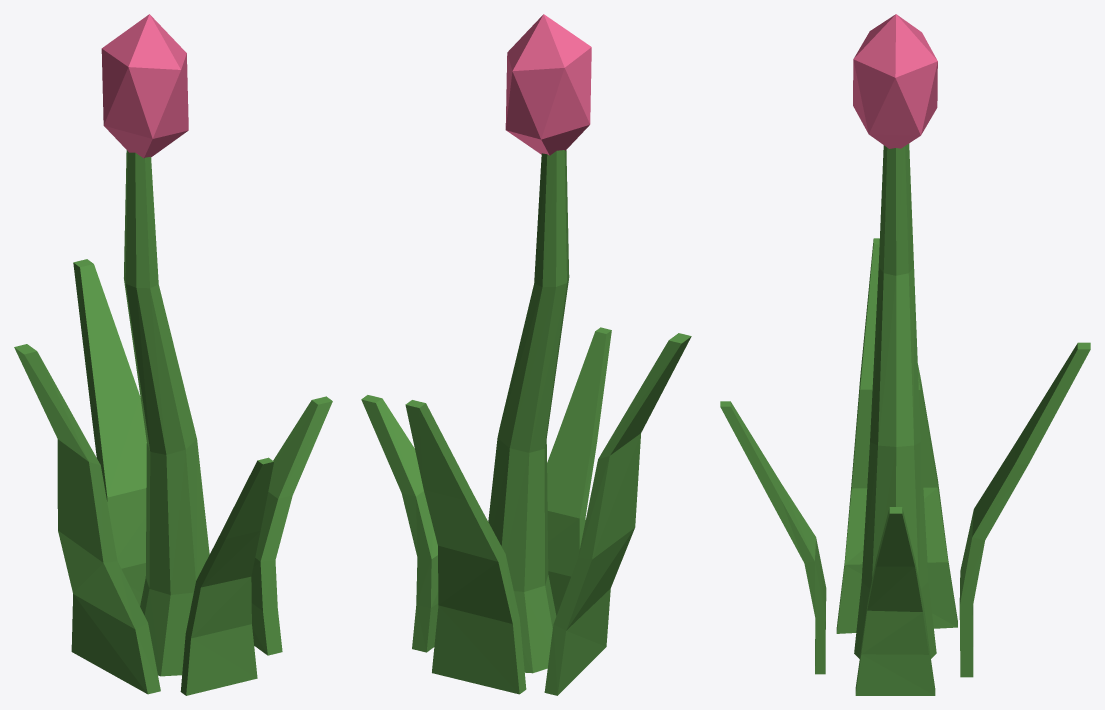
Rendered from flower_01.glb.
3 renders of one model, left to right at view 1: azimuth 30°, elevation 25°; view 2: azimuth 150°, elevation 25°; view 3: azimuth 270°, elevation 25°, orthographic. The views are drawn at different scales.
Parts seen in each view (by area): view 1: Object_96, Object_97; view 2: Object_96, Object_97; view 3: Object_96, Object_97.
Boxes of the visible parts, <box> form: Object_96: <box>14,150,332,695</box>; Object_97: <box>101,14,188,158</box>; Object_96: <box>361,150,691,695</box>; Object_97: <box>505,14,591,155</box>; Object_96: <box>720,143,1090,695</box>; Object_97: <box>853,14,937,148</box>.
Size of the model in its own units: 0.8184 by 1.6 by 0.8561.
